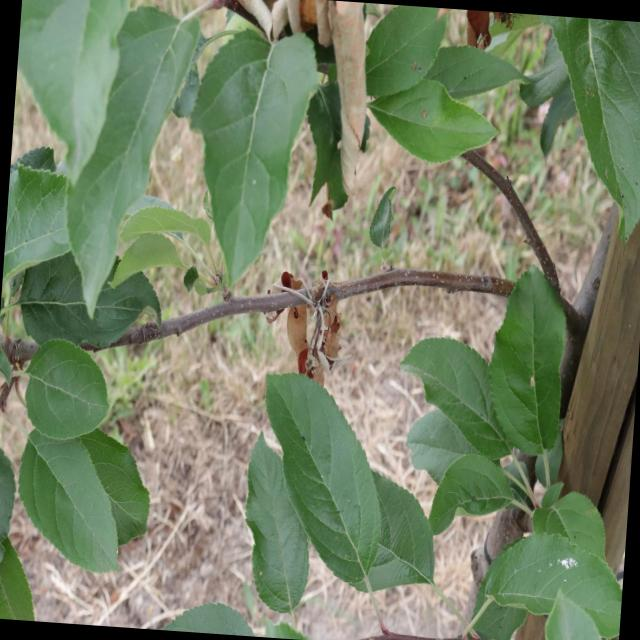-FireBlight-: (264, 274, 350, 382)
